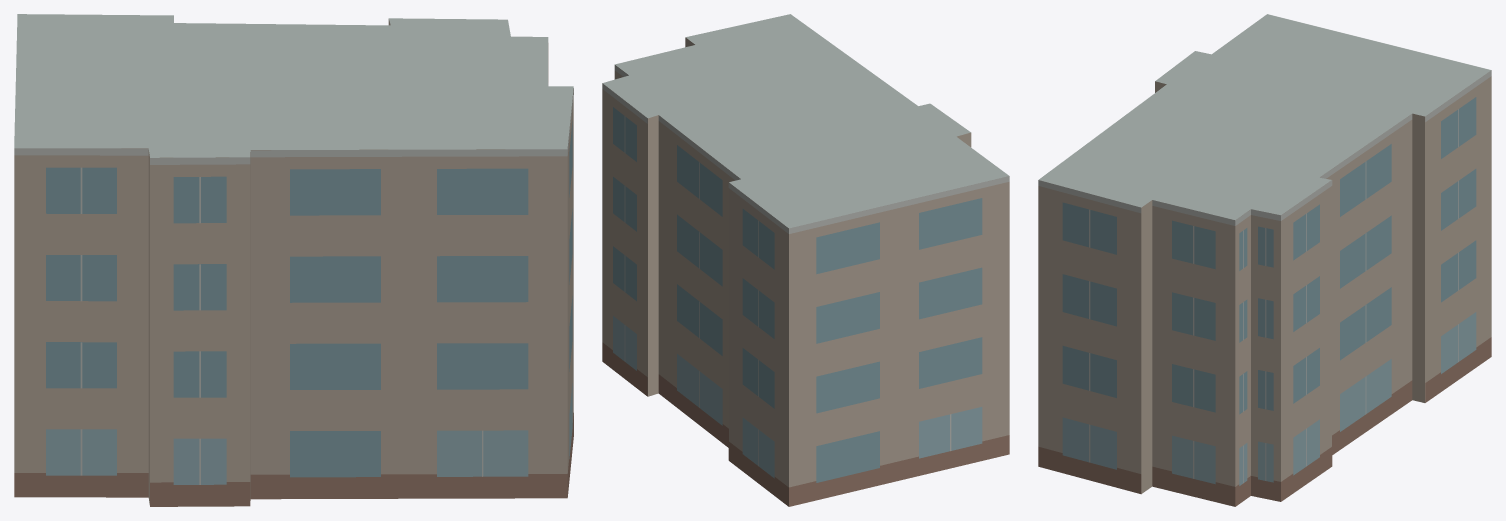
The model's file is survey-upis-32594935.glb.
3 views of the same model, side by side, from view 1: azimuth 30°, elevation 25°; view 2: azimuth 150°, elevation 25°; view 3: azimuth 270°, elevation 25° (orthographic). The views are drawn at different scales.
Visible parts, largest first — view 1: survey-upis-32594935.tmp; view 2: survey-upis-32594935.tmp; view 3: survey-upis-32594935.tmp.
Part boxes in pixels (bbox=[...]): survey-upis-32594935.tmp: bbox=[14, 14, 573, 506]; survey-upis-32594935.tmp: bbox=[602, 14, 1009, 506]; survey-upis-32594935.tmp: bbox=[1038, 14, 1491, 506].
Bounding box in the file's own units: 18.37 × 11.9 × 17.07.
